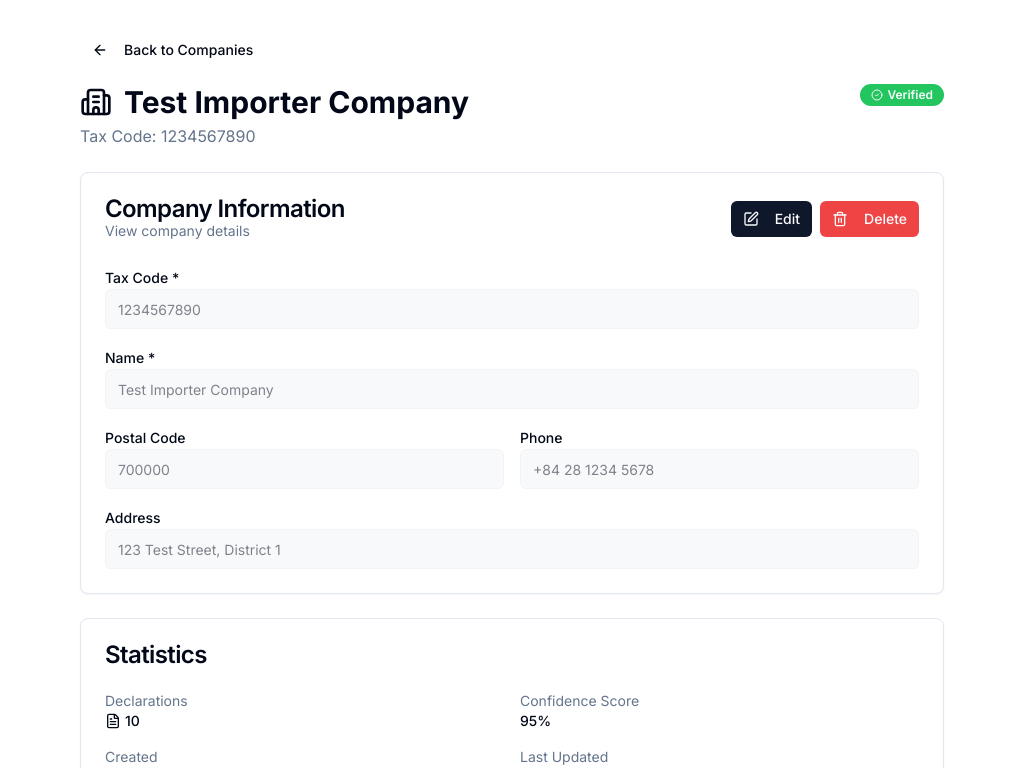
Scenario: CompanyDetailsPage › Edit Mode › cancels editing and resets form when Cancel clicked
This screenshot has width=1024, height=768.
Click the button "Edit".
click(771, 219)  # box [731,201,812,237]
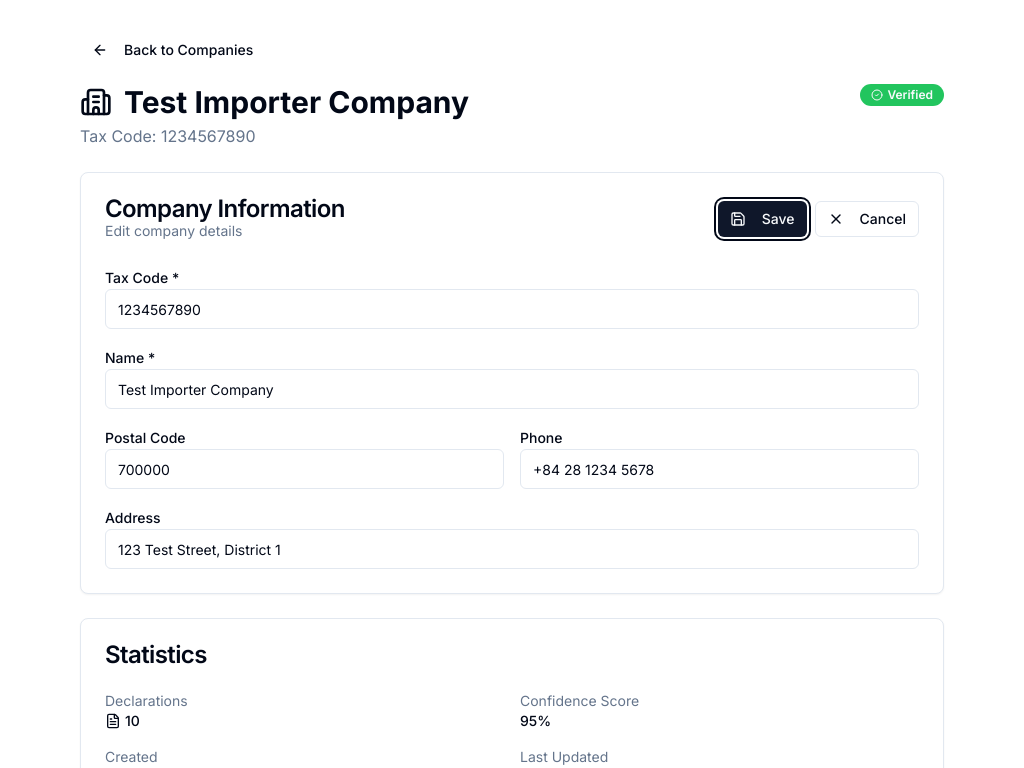
Replace the text in the field labelled "Name *" with "Updated Name" at (512, 389), box [105,369,919,409]
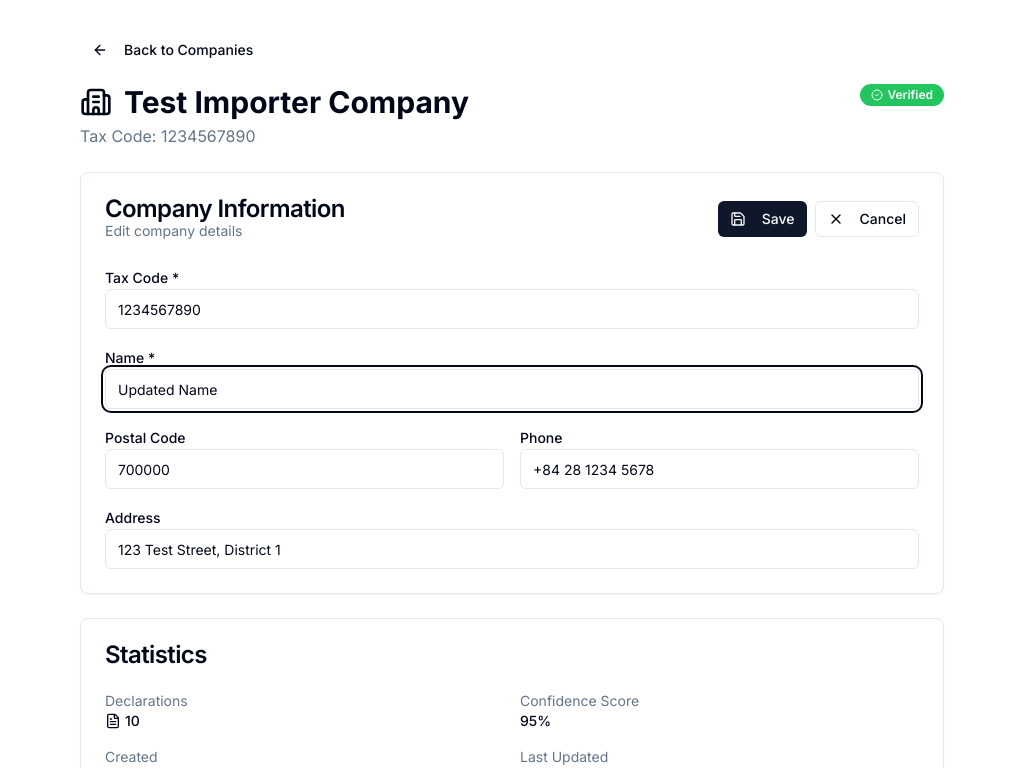
Click the button "Cancel".
click(867, 219)  # box [814,201,919,237]
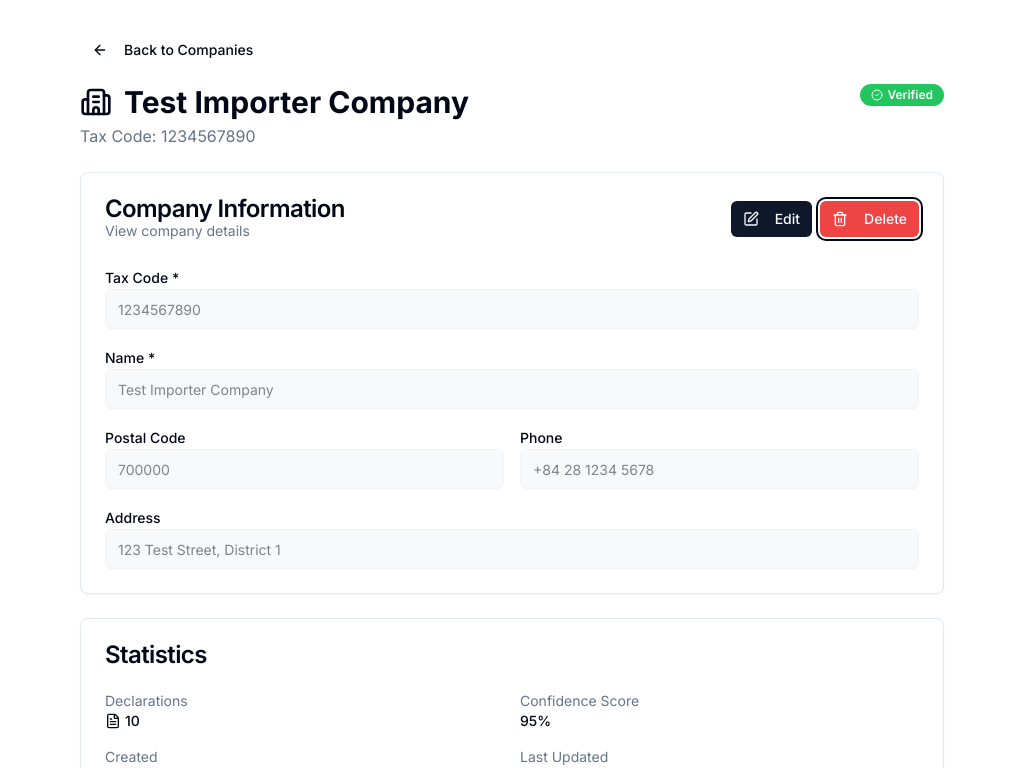
Expected: the button "Edit" is shown, [731,201,812,237]
Expected: the field labelled "Name *" holds "Test Importer Company", [105,369,919,409]
Expected: the field labelled "Name *" is disabled, [105,369,919,409]
